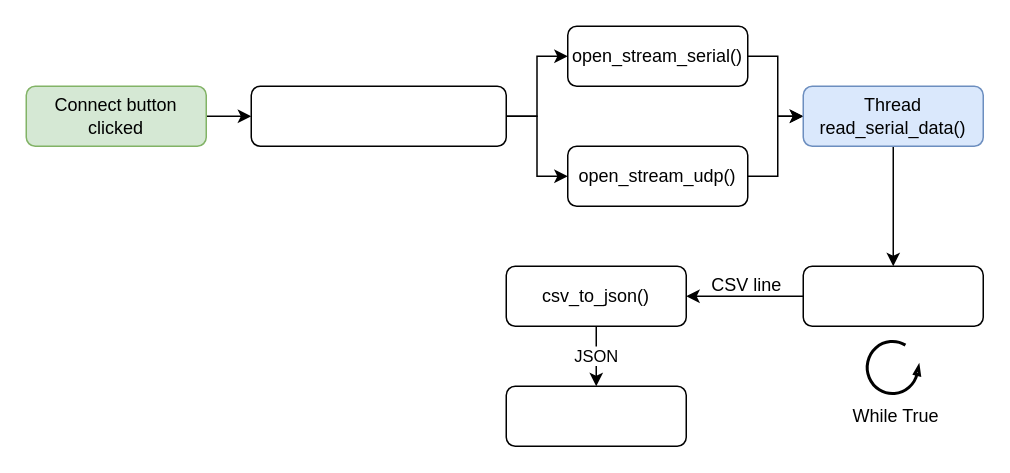
Image size: 1010x473. Some labels were removed from this diagram. The shapes that lost their labels are listed below. From the top down, each one's box as (x1, y1, x2, y2) in pixels, then its label:
(250, 85, 506, 146): start_connection_controller()
(802, 265, 983, 326): read_data_handler()
(505, 385, 686, 446): send_json_to_udp()
